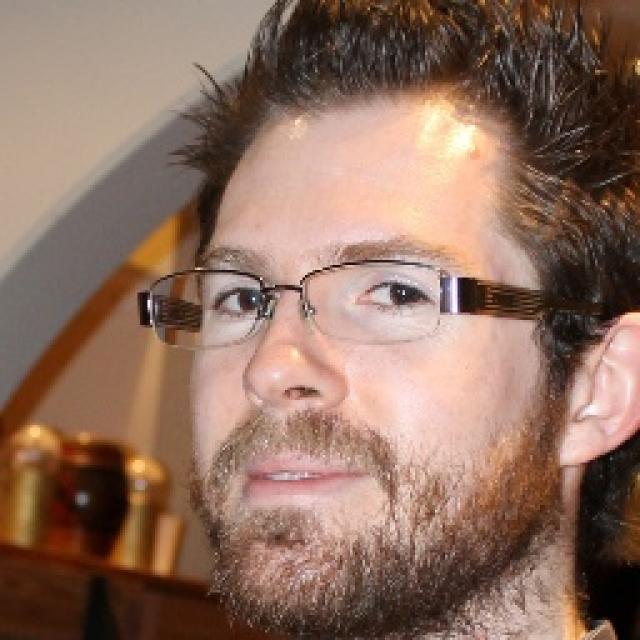earlobe: (560, 427, 614, 469)
eye: (355, 281, 428, 315), (209, 287, 267, 319)
nose: (248, 382, 338, 434)
wholeear: (559, 301, 640, 462)
